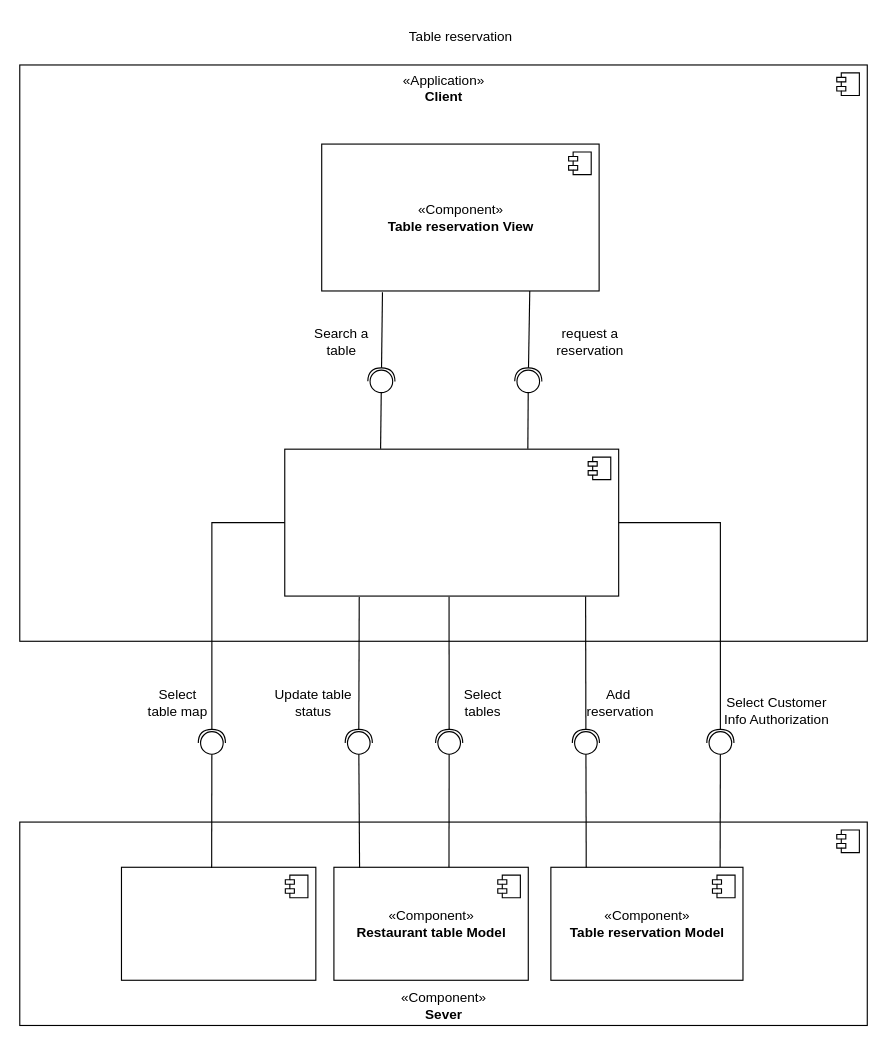
The diagram is 887 pixels wide and 1045 high, and some of its shapes have lost their labels. The shapes that lost their labels are listed below. From the top down, each one's centre as x and y in pixels, then its label:
At (451,522): "«Component» Table reservation Controller".
At (218,923): "«Component» Restaurant table map Model".
